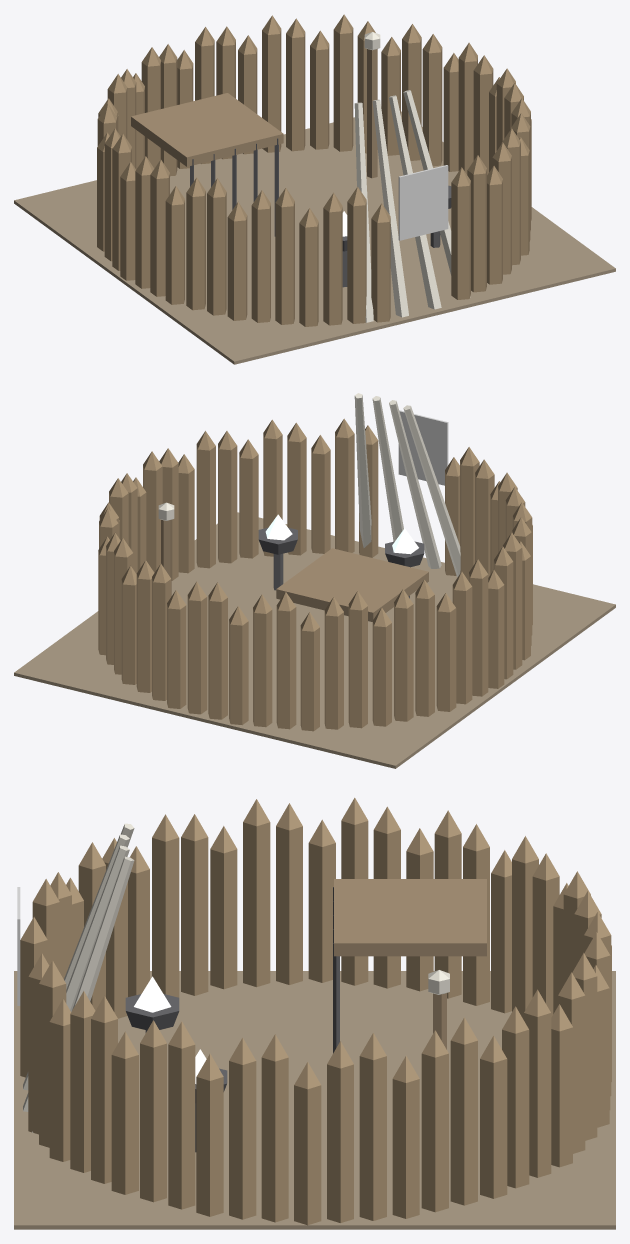
3 views of the same model, one above another, from view 1: azimuth 30°, elevation 25°; view 2: azimuth 150°, elevation 25°; view 3: azimuth 270°, elevation 25° (orthographic). The views are drawn at different scales.
Parts seen in each view (by area): view 1: body; view 2: body; view 3: body.
Boxes of the visible parts, x1=… form: body: x1=14, y1=14, x2=615, y2=364; body: x1=14, y1=393, x2=615, y2=768; body: x1=14, y1=797, x2=615, y2=1229.
Size of the model in its own units: 12.6 by 6.1 by 12.6.
